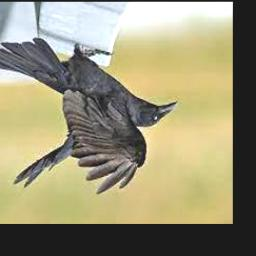Crow: (0, 38, 178, 194)
